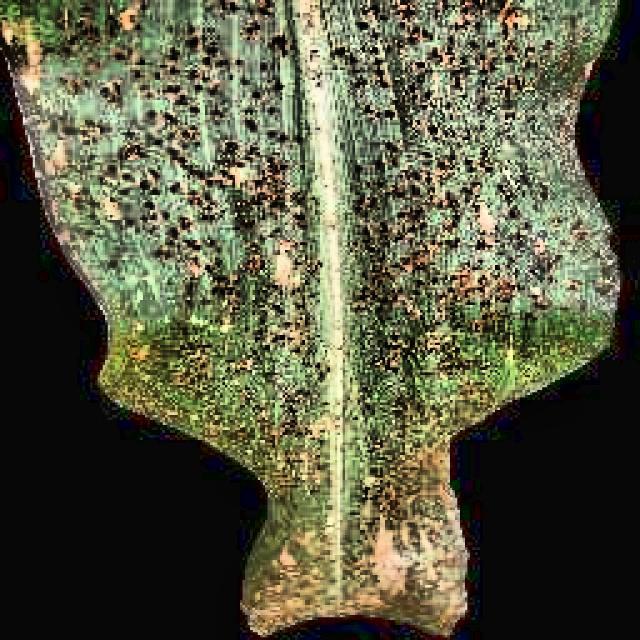fungal_disease: (0, 0, 635, 632)
